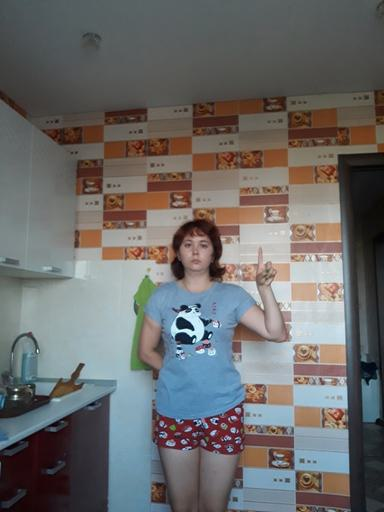one: (255, 246, 278, 290)
